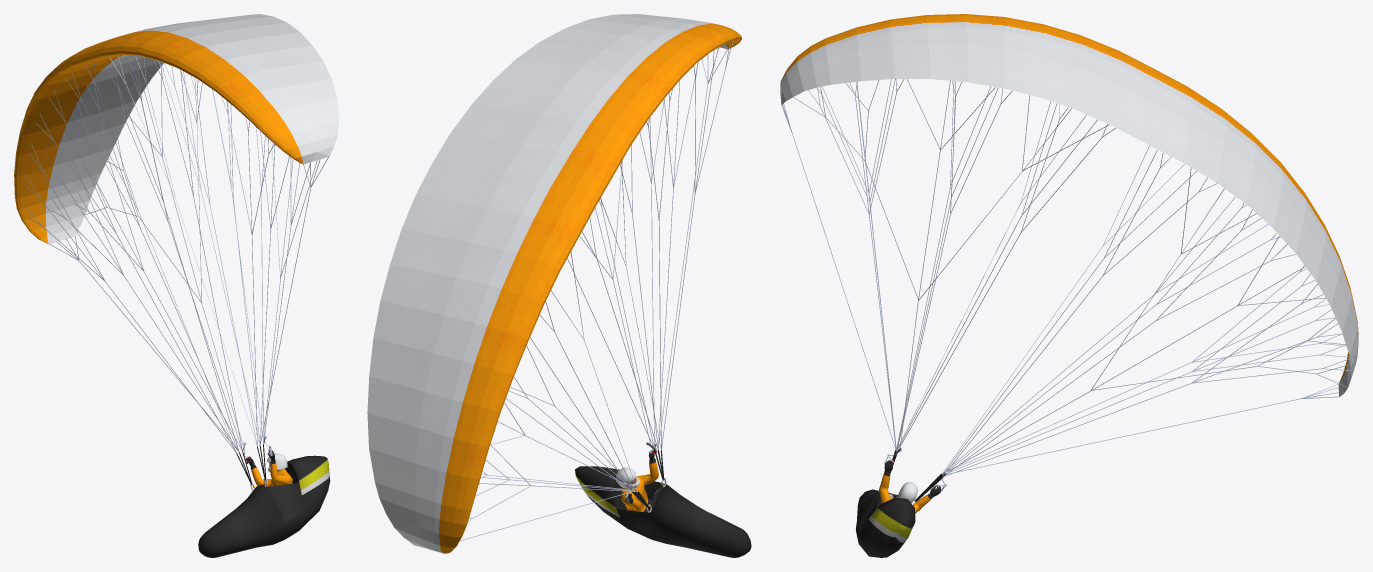
Rendered from paraglider-yellow-thermal-cbj_LOD00.gltf.
3 renders of one model, left to right at view 1: azimuth 30°, elevation 25°; view 2: azimuth 150°, elevation 25°; view 3: azimuth 270°, elevation 25°, orthographic. The views are drawn at different scales.
Visible parts, largest first — view 1: harness-plus00; view 2: harness-plus00; view 3: harness-plus00.
Boxes of the visible parts, box(x1,y1,x2,y2) form: harness-plus00: box(14, 14, 338, 557); harness-plus00: box(367, 14, 751, 557); harness-plus00: box(780, 14, 1358, 557).
Size of what is drawn, in the model's own units: 2.82 by 8 by 8.12.
